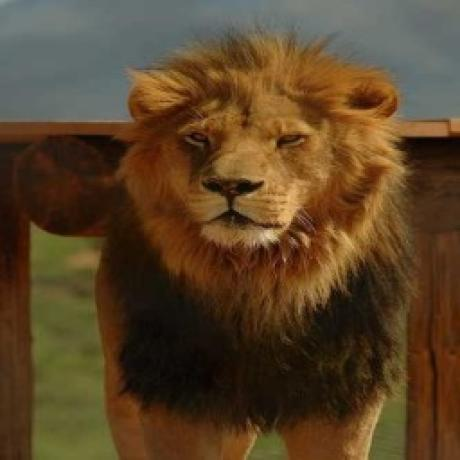Lion: (91, 16, 418, 460)
